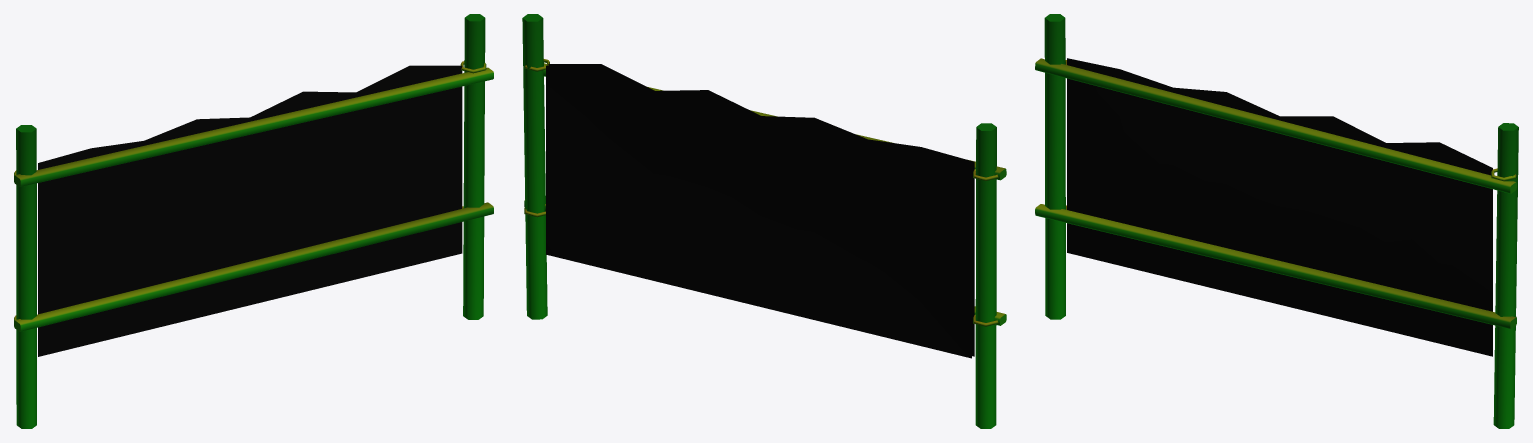
File: yard_fence.glb
3 views of the same model, side by side, from view 1: azimuth 30°, elevation 25°; view 2: azimuth 150°, elevation 25°; view 3: azimuth 330°, elevation 25° (orthographic).
Parts seen in each view (by area): view 1: yard_fence; view 2: yard_fence; view 3: yard_fence.
Boxes of the visible parts, x1,y1,x2,y2 form: yard_fence: (14, 14, 493, 428); yard_fence: (522, 14, 1006, 428); yard_fence: (1035, 14, 1518, 428).
Size of what is drawn, in the model's own units: 2.12 by 1.27 by 0.106.
